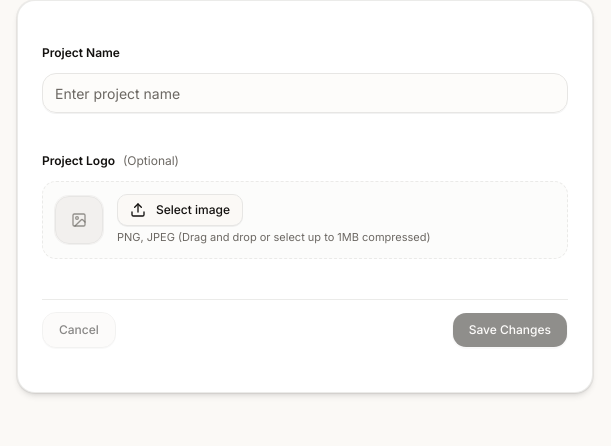
ProjectForm component › validates form values and shows error on validation failure
Type "A" into the field with placeholder "Enter project name". click: (305, 93)
box: [42, 73, 568, 113]
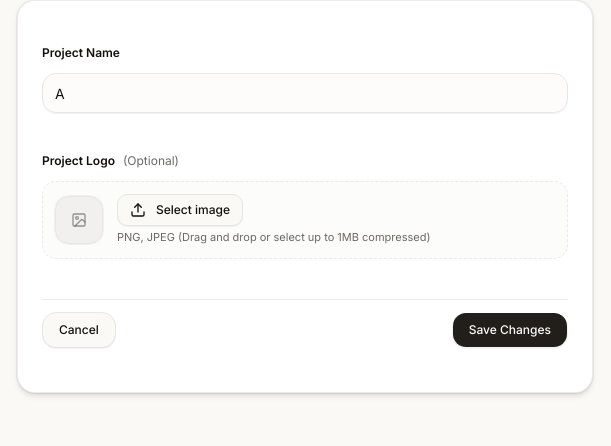
Click the button "Save Changes". click: (510, 330)
box: [452, 312, 568, 348]
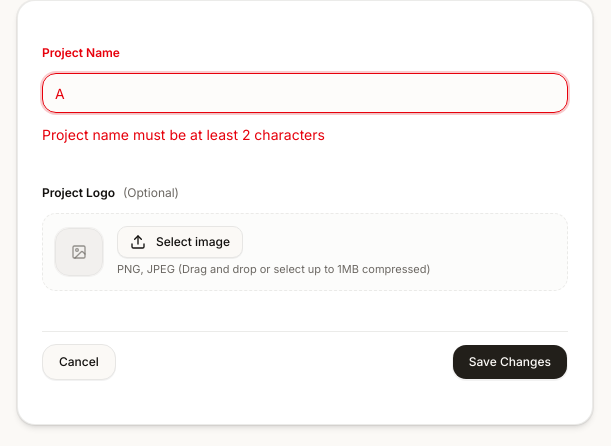
Check: the text "Project name must be at least 2 characters" is shown, box [42, 126, 325, 143]
